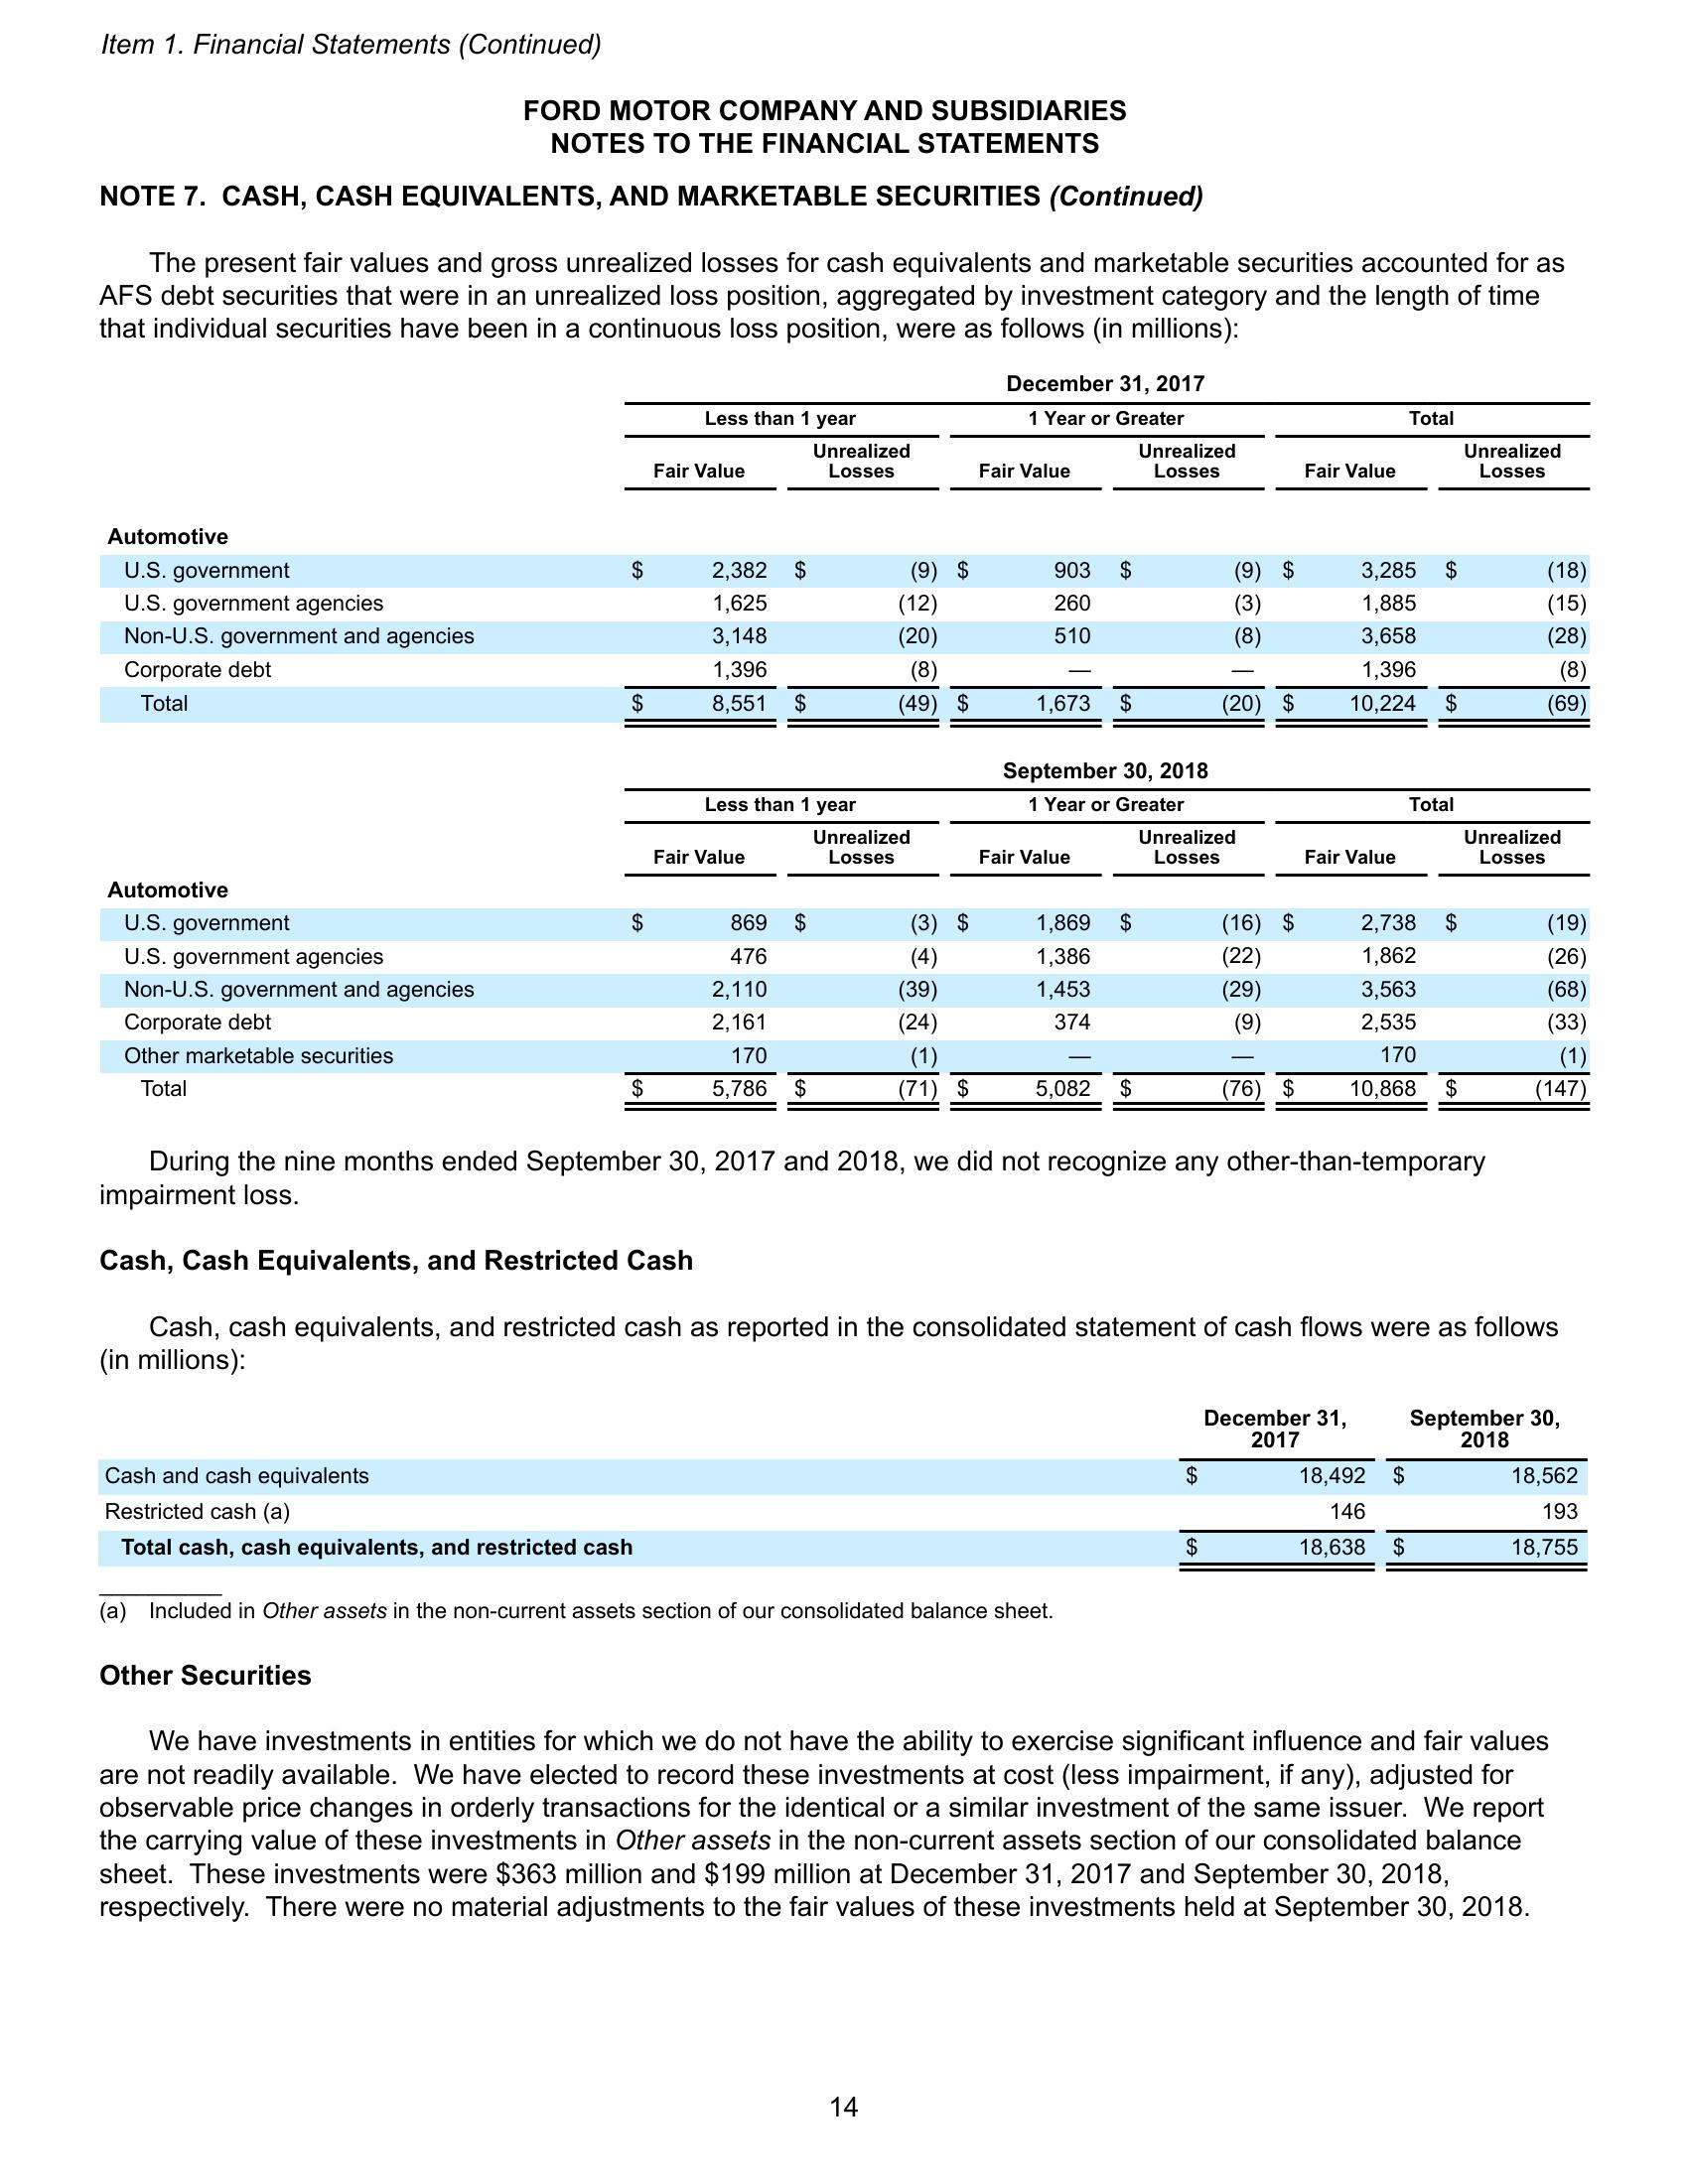table: (92, 367, 1594, 734), (96, 752, 1601, 1113), (94, 1395, 1594, 1581)
